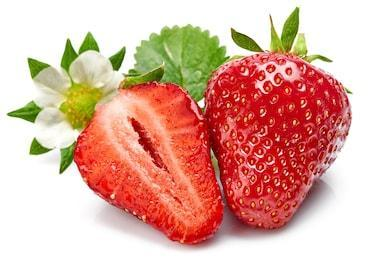Fresa: (200, 45, 356, 235)
